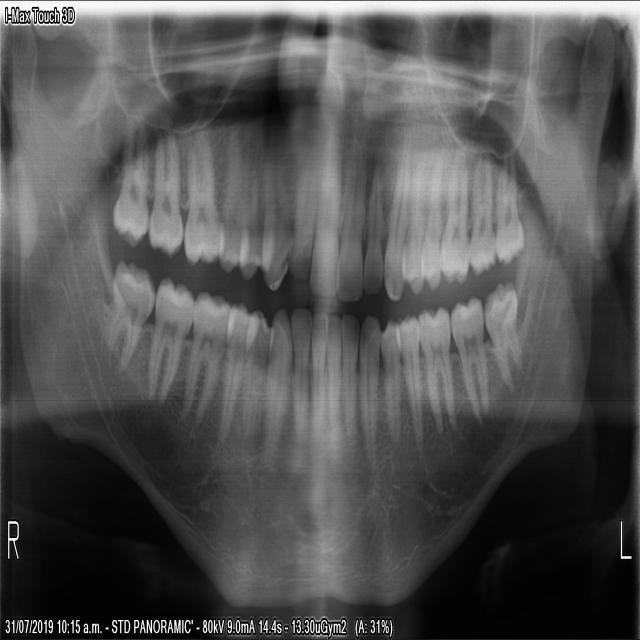LCD: (356, 309, 381, 473)
LCU: (380, 133, 410, 302)
LID: (338, 309, 358, 458), (322, 309, 341, 463)
LIU: (333, 124, 366, 303), (359, 136, 383, 297)
LMD: (415, 301, 454, 439), (481, 278, 525, 399), (448, 291, 486, 424)
LMU: (434, 142, 470, 286), (492, 148, 527, 266), (466, 150, 497, 278)
LPMD: (391, 311, 423, 458), (377, 316, 400, 447)
LPMU: (398, 146, 426, 298), (418, 145, 443, 287)
RCD: (260, 303, 293, 481)
RCU: (258, 114, 293, 293)
RID: (288, 301, 311, 453), (309, 301, 327, 453)
RIU: (308, 122, 342, 302), (285, 116, 320, 289)
RMD: (180, 284, 234, 428), (147, 272, 196, 403), (103, 255, 154, 372)
RMU: (180, 116, 224, 266), (108, 109, 151, 248), (145, 124, 183, 258)
RPMD: (212, 298, 257, 450), (239, 305, 275, 462)
RPMU: (235, 112, 274, 284), (215, 122, 247, 272)
